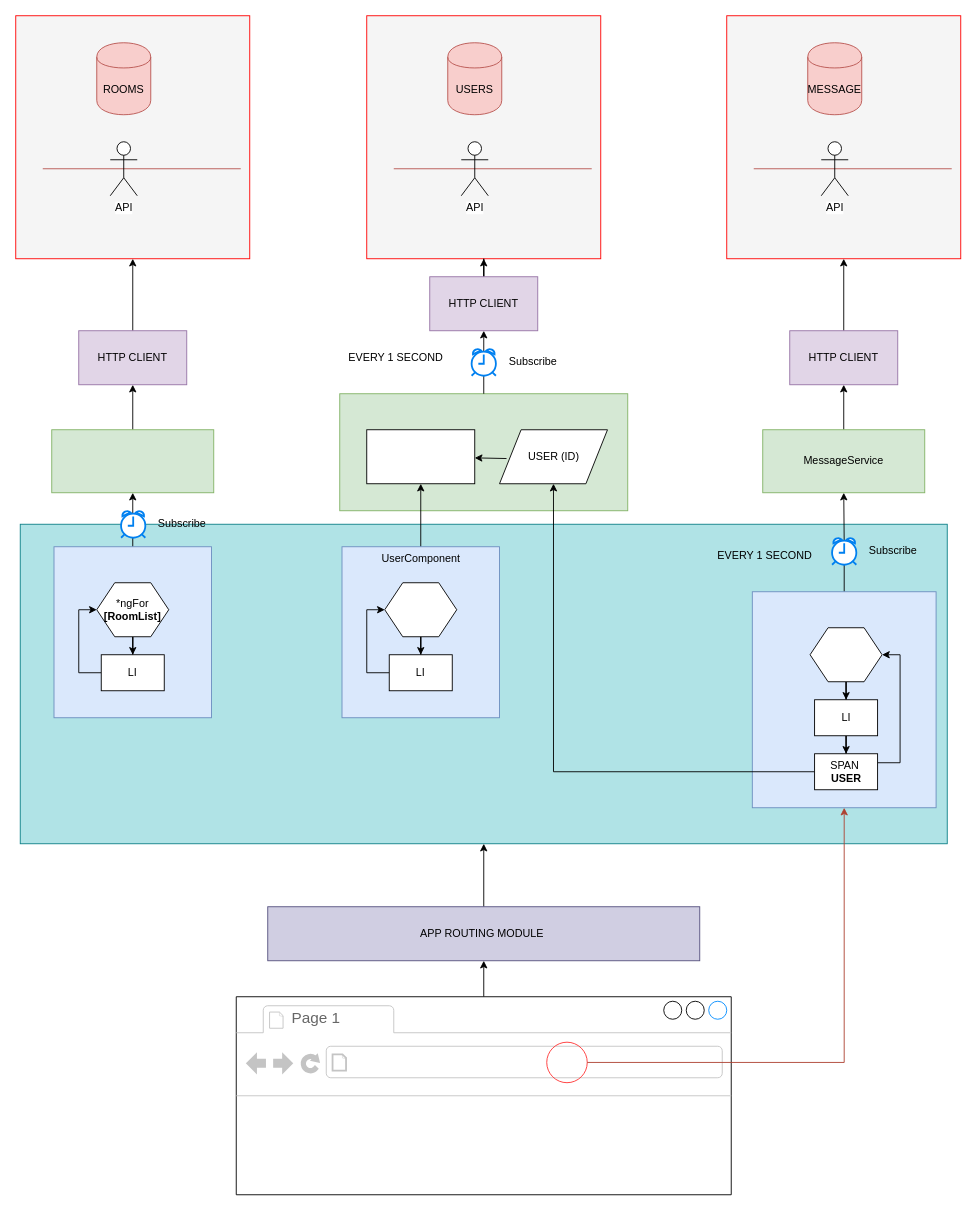
This 977x1211 diagram has some shape labels left out. The shapes that lost their labels are listed below. From the top down, each one's box as (x1, y1, x2, y2) in pixels, then its label:
(51, 429, 214, 493): RoomsService
(366, 429, 475, 484): UserList [USER]
(339, 393, 628, 511): UserService
(384, 582, 457, 637): *ngFor [UserList]
(53, 546, 212, 718): RoomsComponent
(809, 627, 882, 682): *ngFor [MessageList]
(19, 523, 947, 844): DISCORD COMPONENT
(751, 591, 936, 808): MessageComponent
(352, 1050, 578, 1074): https://localhost:4200/ discord/1
